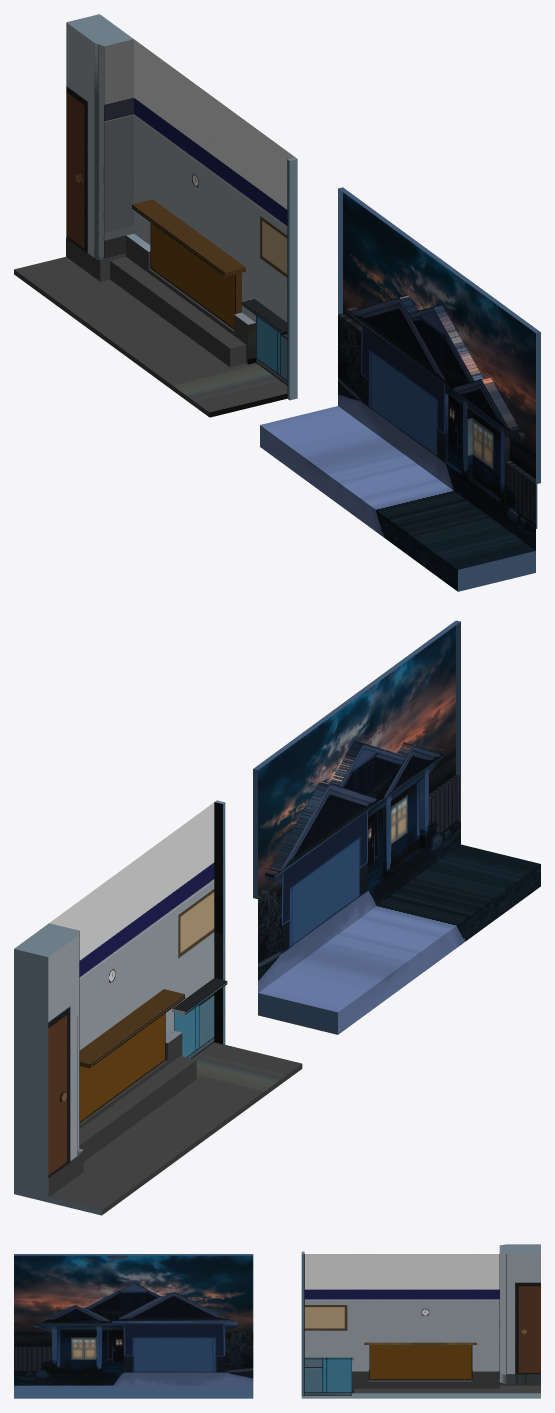
File: More backgrounds.fbx
The picture shows the model from 3 angles, top to bottom: view 1: azimuth 30°, elevation 25°; view 2: azimuth 150°, elevation 25°; view 3: azimuth 270°, elevation 25°; orthographic projection. The views are drawn at different scales.
Visible parts, largest first — view 1: Plane.002, Plane.003; view 2: Plane.002, Plane.003; view 3: Plane.002, Plane.003.
Part boxes in pixels (bbox=[...]): Plane.002: bbox=[14, 14, 297, 417]; Plane.003: bbox=[260, 187, 540, 591]; Plane.002: bbox=[14, 800, 302, 1215]; Plane.003: bbox=[253, 620, 540, 1034]; Plane.002: bbox=[301, 1244, 540, 1398]; Plane.003: bbox=[14, 1254, 253, 1398].
Bounding box in the file's own units: 817 × 2060 × 6807.
Materials: 3 (2 with a texture image).
